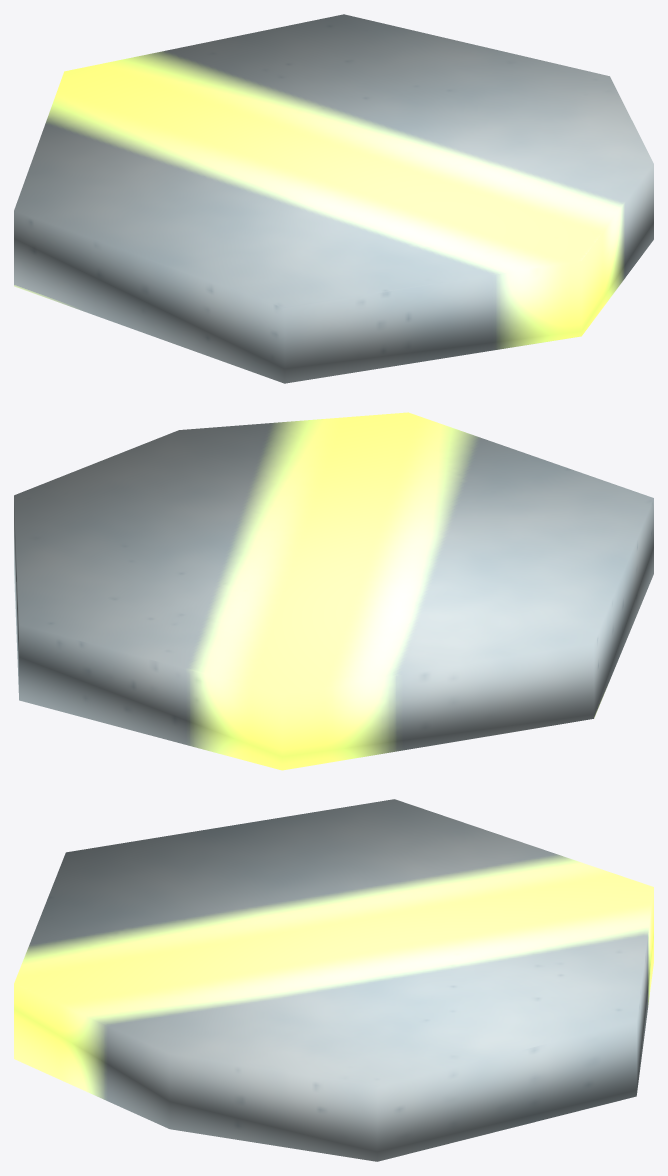
File: glass_flake.glb
The picture shows the model from 3 angles, top to bottom: view 1: azimuth 30°, elevation 25°; view 2: azimuth 150°, elevation 25°; view 3: azimuth 270°, elevation 25°; orthographic projection.
Visible parts, largest first — view 1: GlassFlake; view 2: GlassFlake; view 3: GlassFlake.
Boxes of the visible parts, left/top/right/bottom form: GlassFlake: left=14, top=14, right=653, bottom=383; GlassFlake: left=14, top=412, right=653, bottom=770; GlassFlake: left=14, top=799, right=653, bottom=1161.
Bounding box in the file's own units: 0.3563 × 0.0461 × 0.3381.
Materials: 1 (1 with a texture image).
